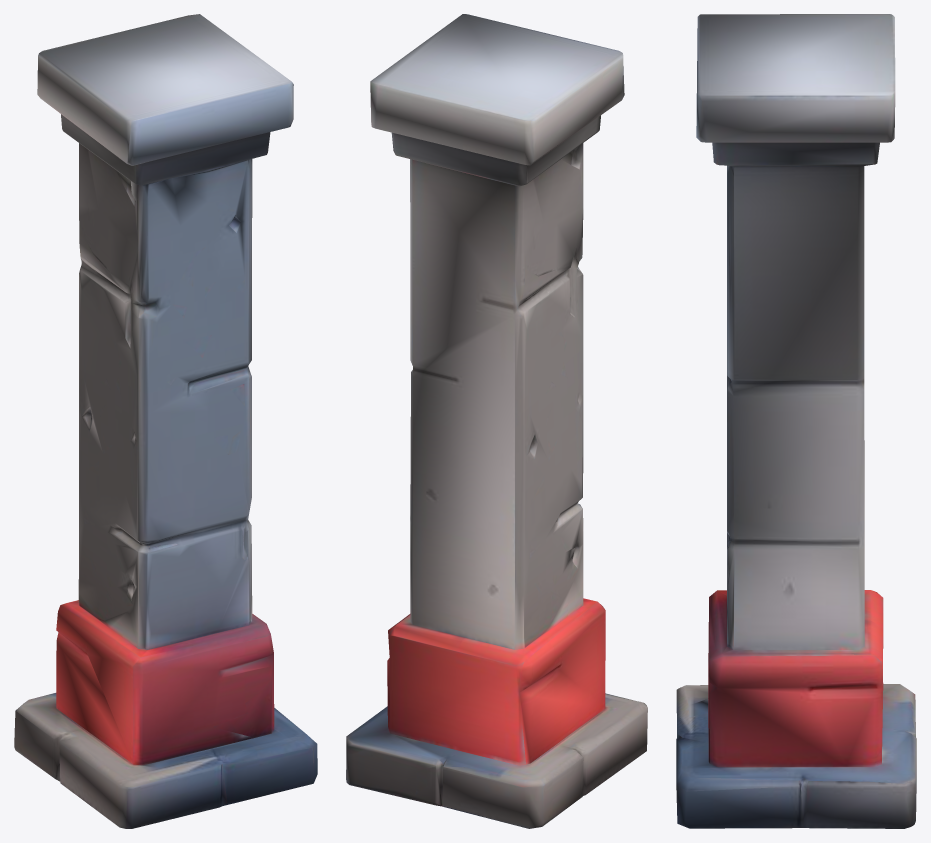
Rendered from lizhu.glb.
The picture shows the model from 3 angles, left to right: view 1: azimuth 30°, elevation 25°; view 2: azimuth 150°, elevation 25°; view 3: azimuth 270°, elevation 25°; orthographic projection. The views are drawn at different scales.
Visible parts, largest first — view 1: node_0; view 2: node_0; view 3: node_0.
Boxes of the visible parts, x1,y1,x2,y2 form: node_0: (14,14,317,828); node_0: (346,14,647,828); node_0: (676,14,916,828).
Bounding box in the file's own units: 0.3306 × 1.11 × 0.3342.
1 material, 1 textured.
